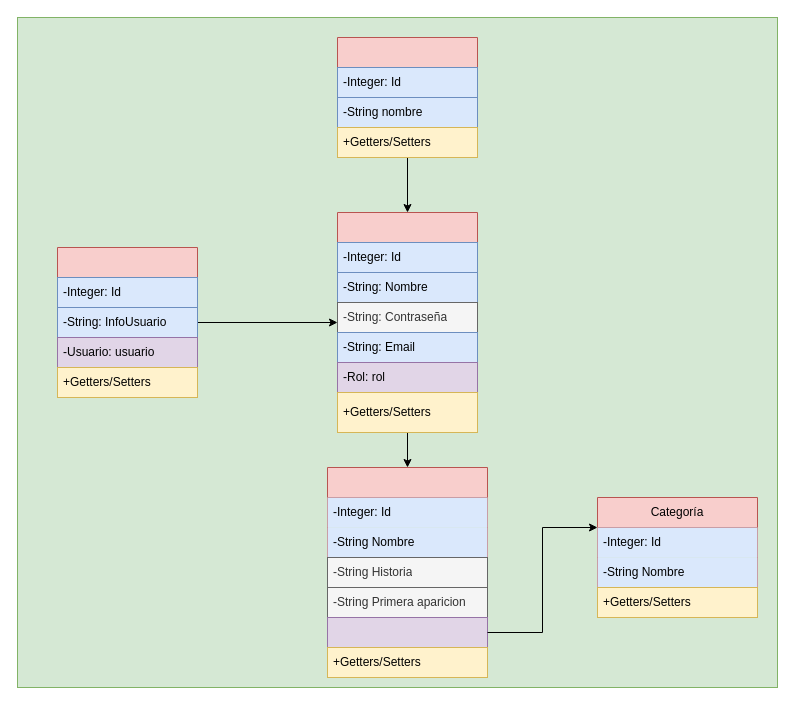
Some shapes in this 795 by 705 pixel diagram are drawn without their labels. The shapes that lost their labels are listed below. From the top down, each one's box as (x1, y1, x2, y2) in pixels, then its label:
(336, 36, 478, 158): Rol
(56, 246, 198, 398): Perfil
(336, 212, 478, 432): Usuario
(326, 466, 488, 678): Personajes
(326, 616, 488, 648): -List<Categoria>categorias
